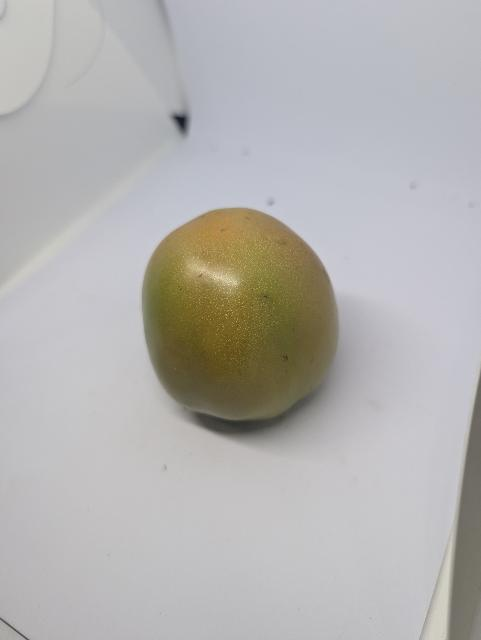breaker: (138, 202, 345, 426)
